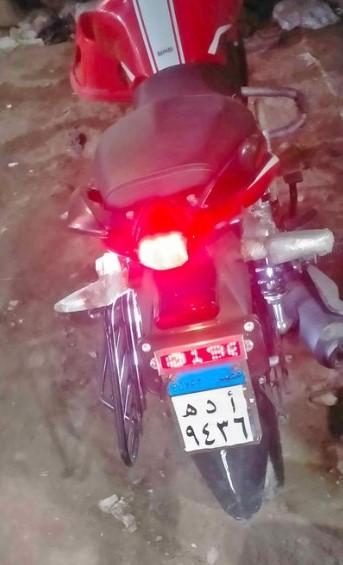License Plate: (168, 367, 260, 454)
